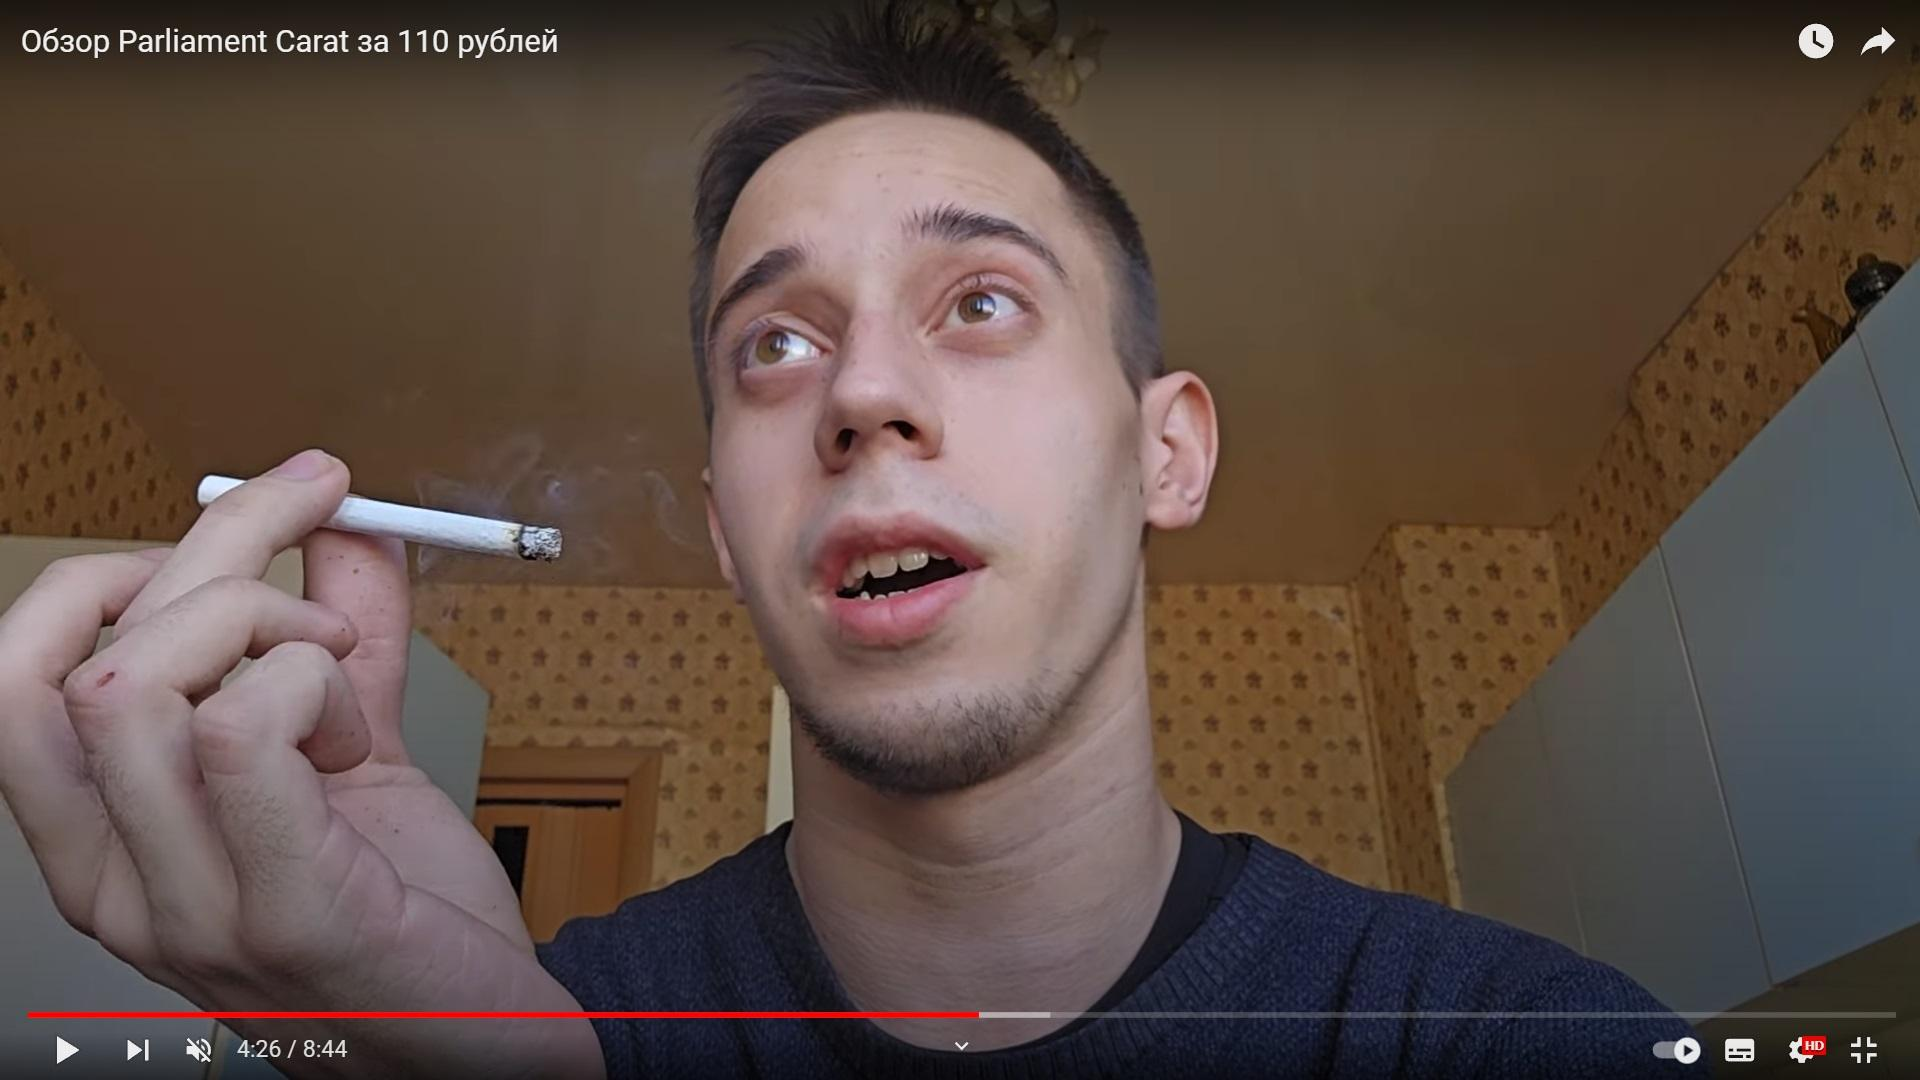cigarette: (196, 473, 567, 563)
